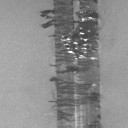slag inclusion: (39, 0, 104, 126)
